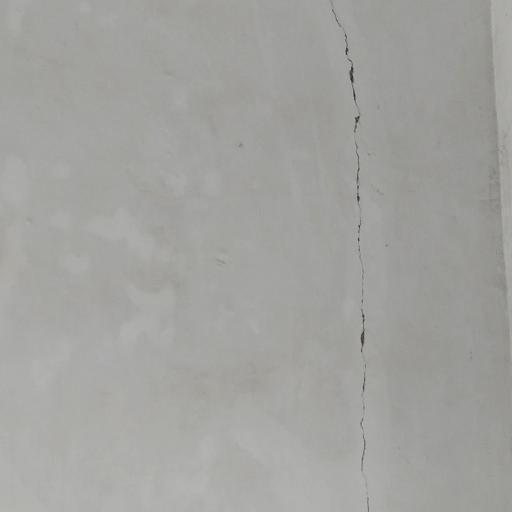minor_crack: (283, 4, 413, 512)
